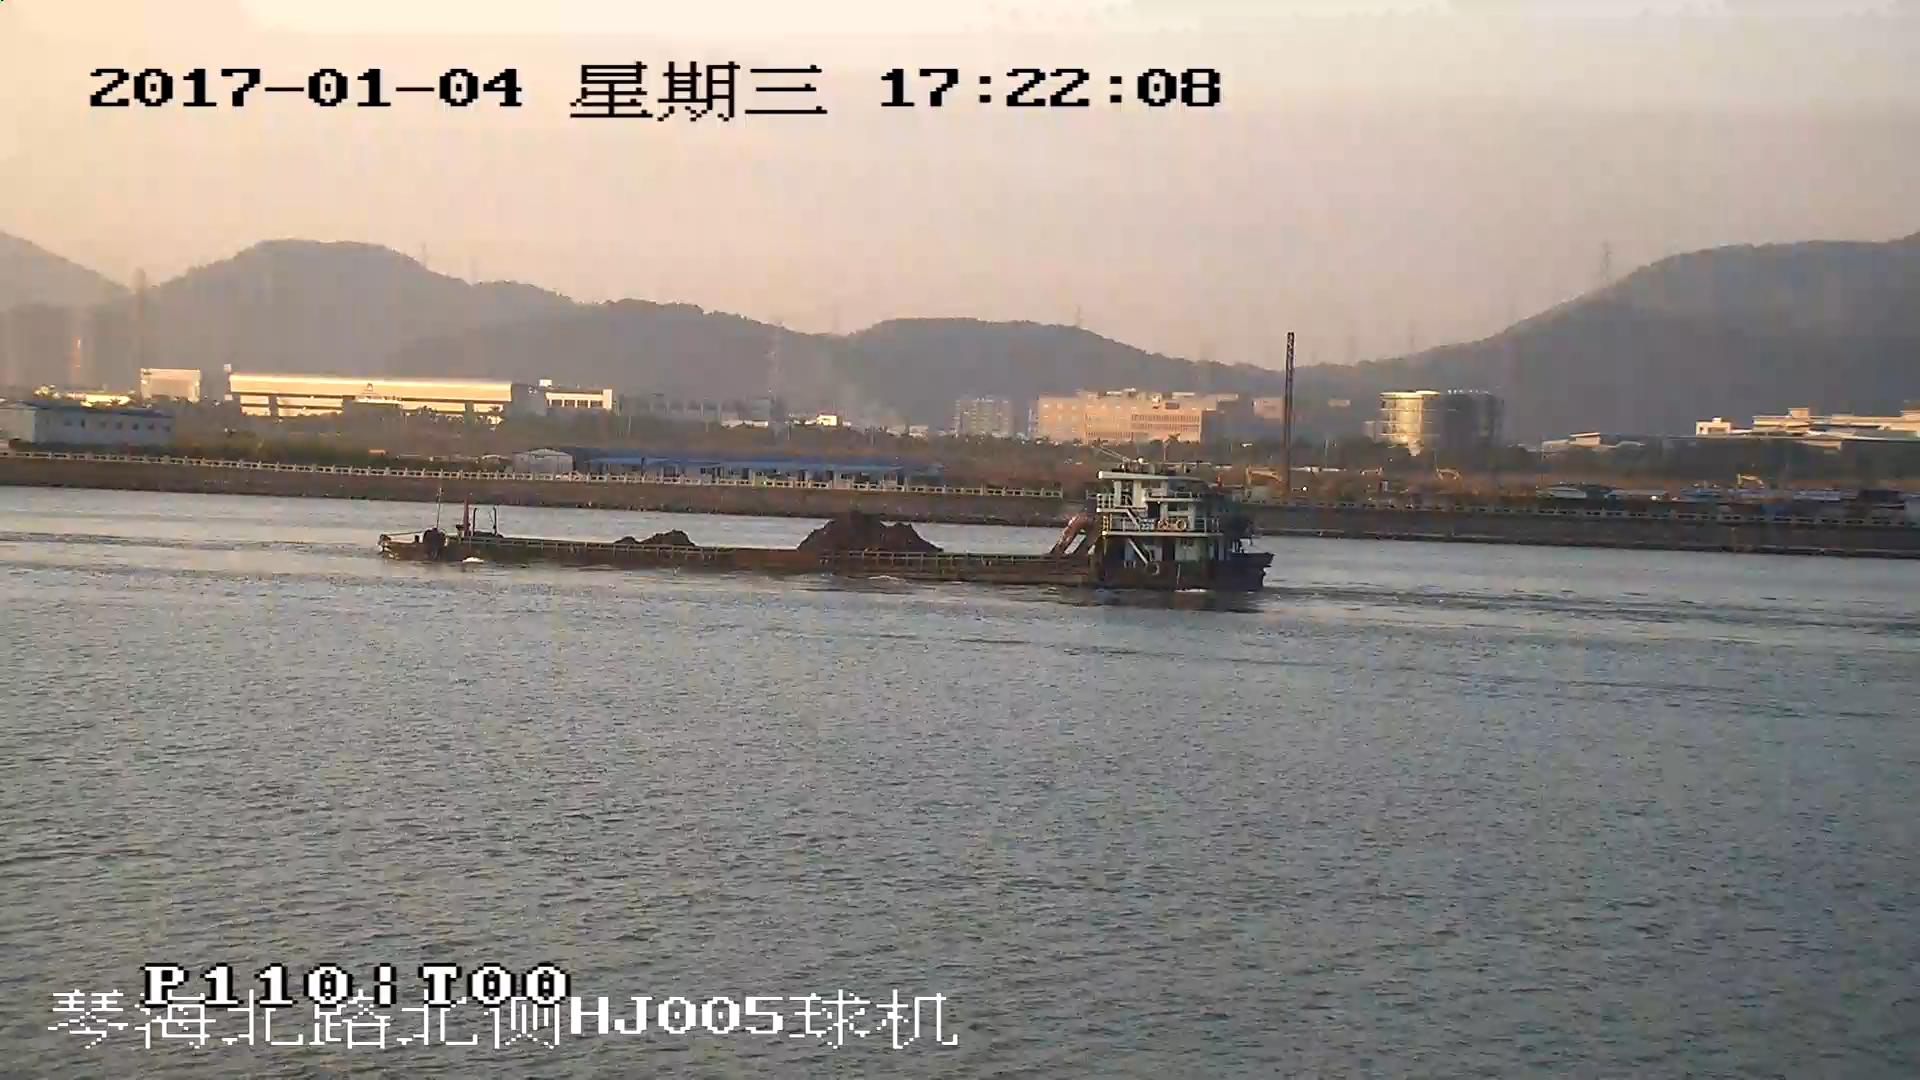ore carrier: (382, 469, 1271, 592)
